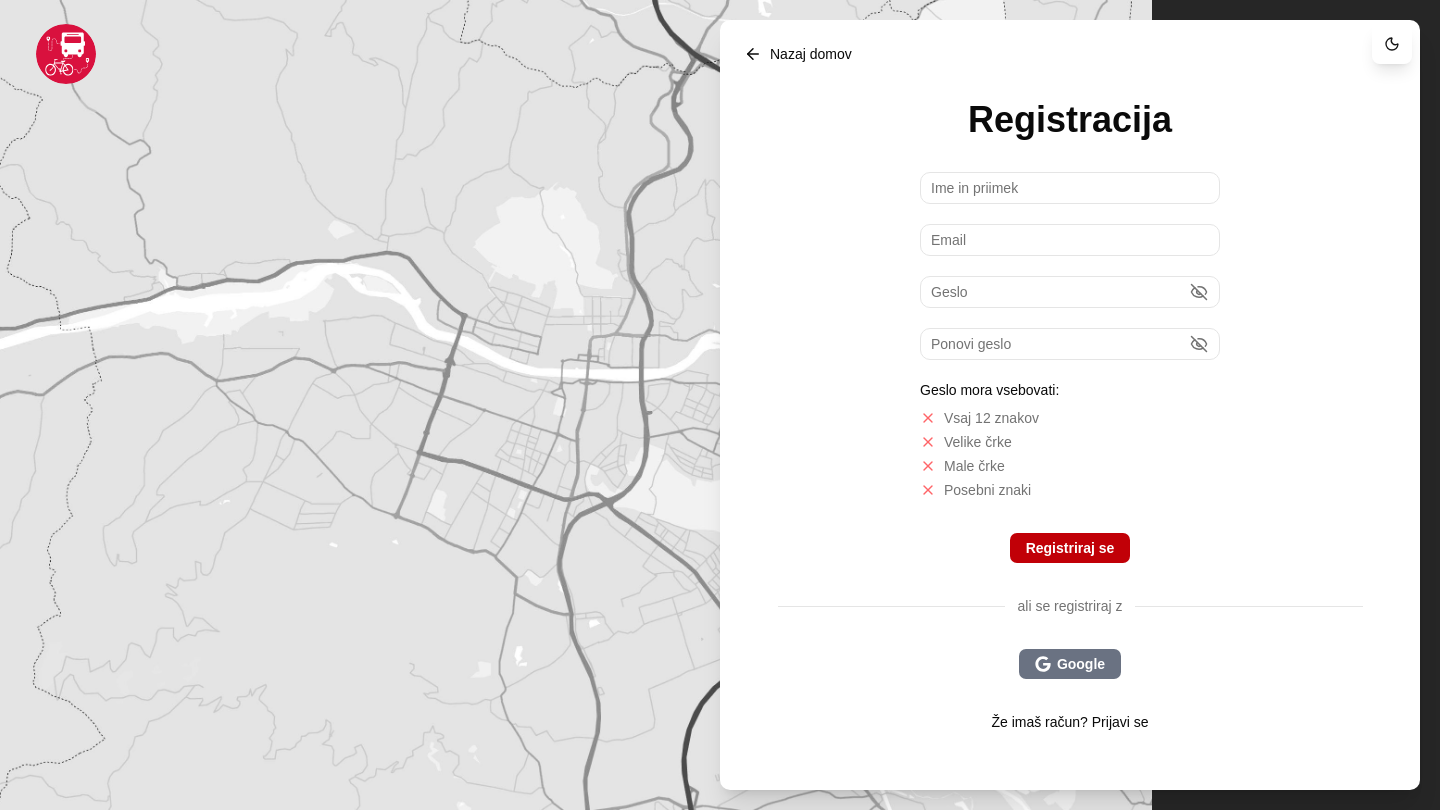
it: integracijski Login in Register › Register prikaže napako ob neujemajočih geslih
In the field with placeholder "Ime in priimek": (1070, 188) [920,172,1220,204], type "Test User"
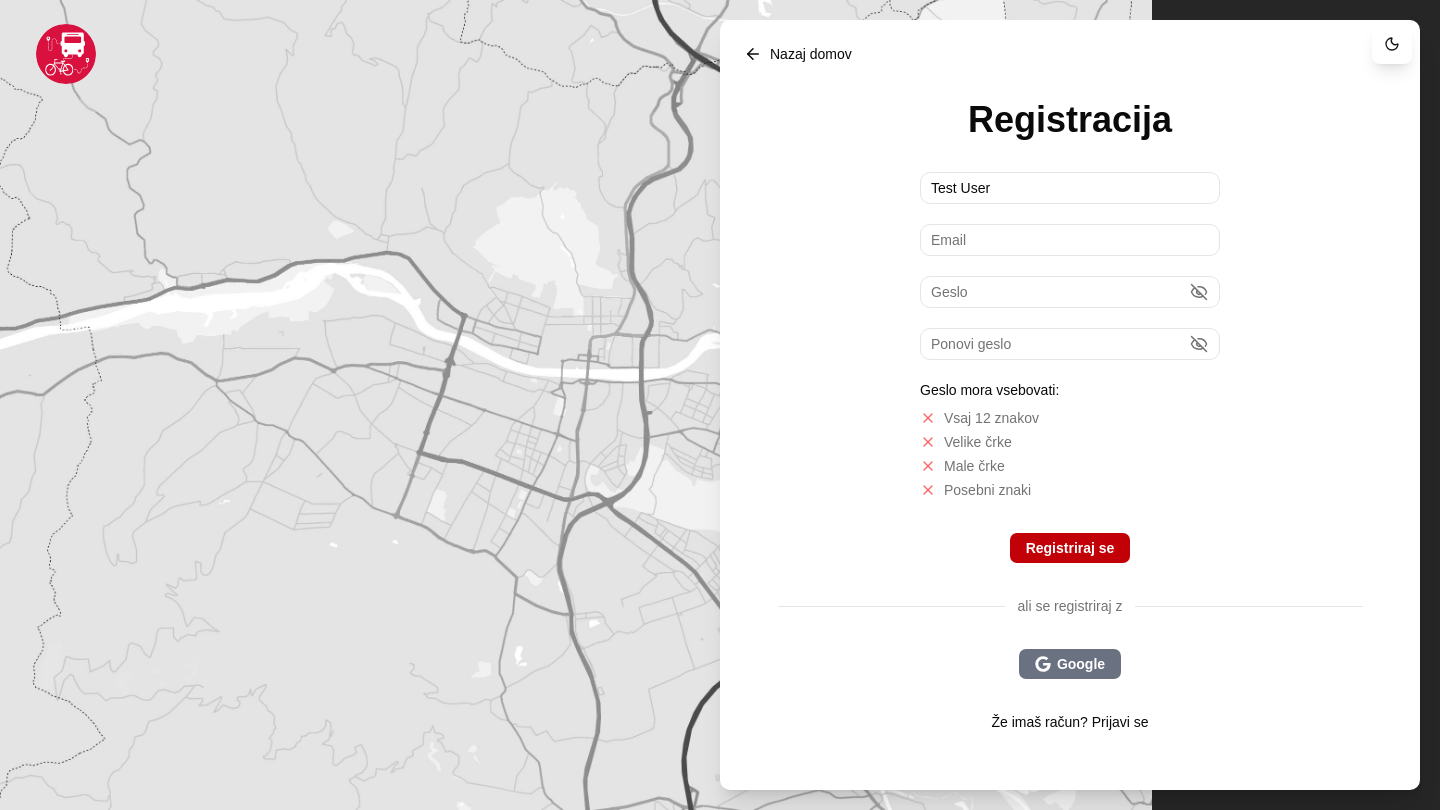
In the field with placeholder "Email": (1070, 240) [920,224,1220,256], type "test@example.com"
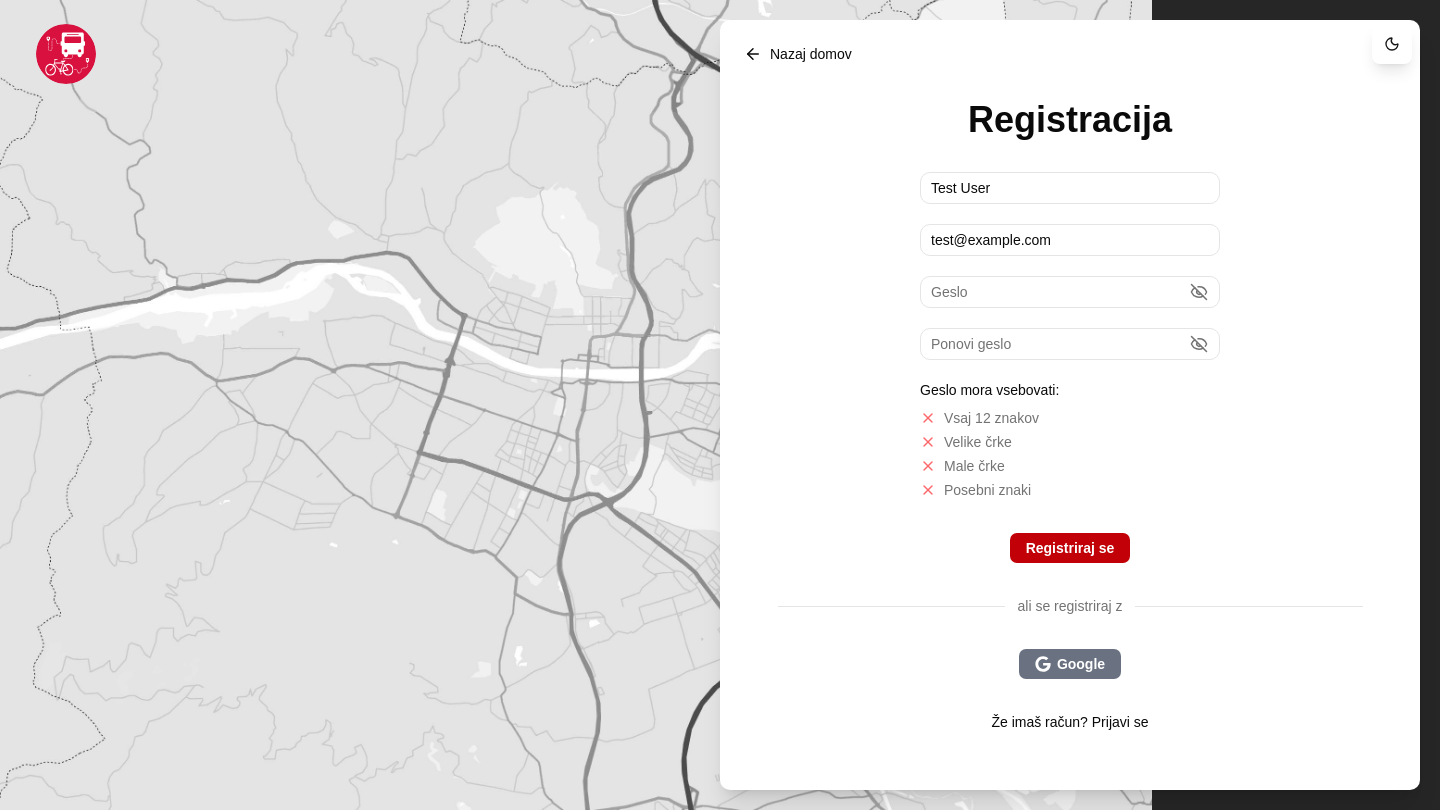
In the password field with placeholder "Geslo": (1070, 292) [920,276,1220,308], type "Password!234"
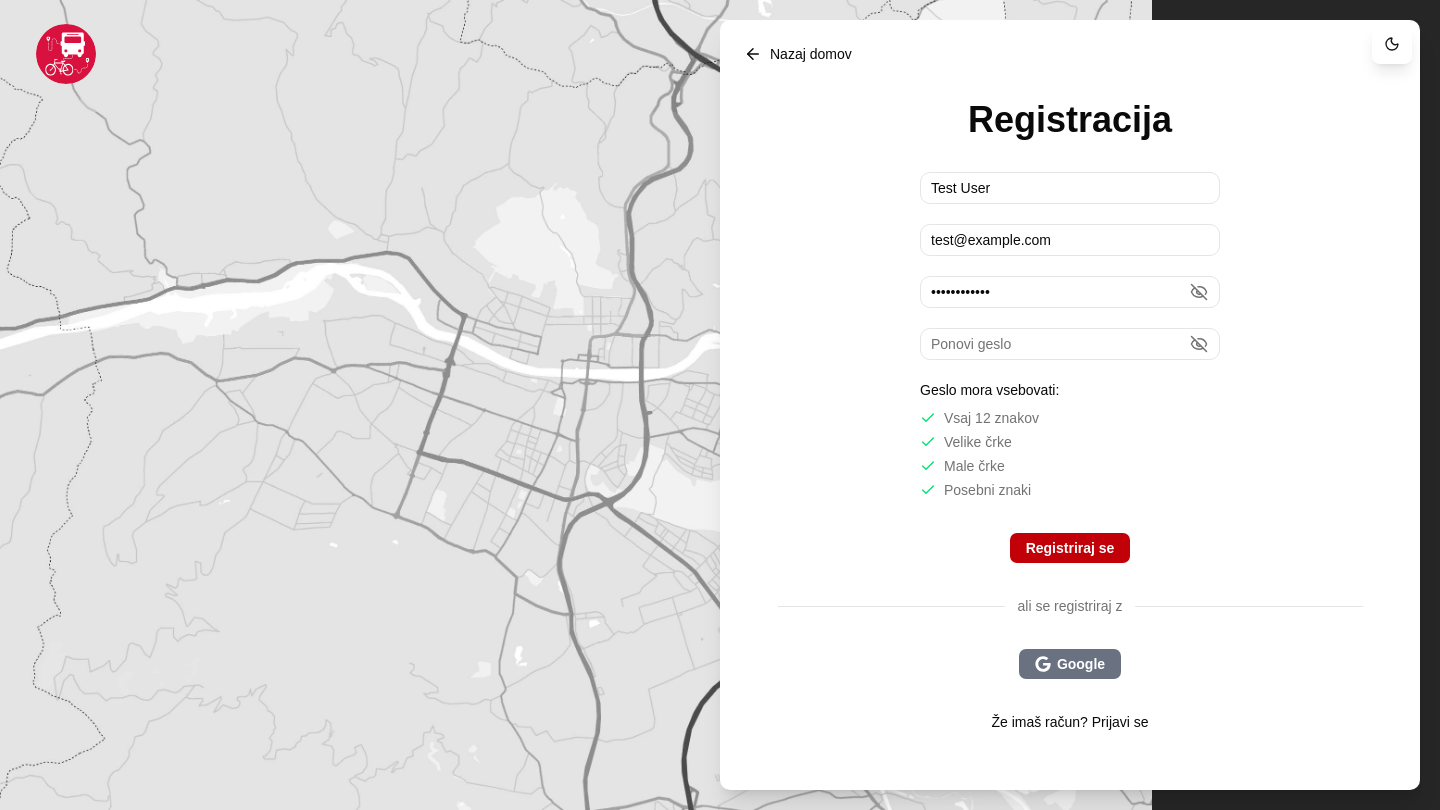
In the password field with placeholder "Ponovi geslo": (1070, 344) [920,328,1220,360], type "Password!999"
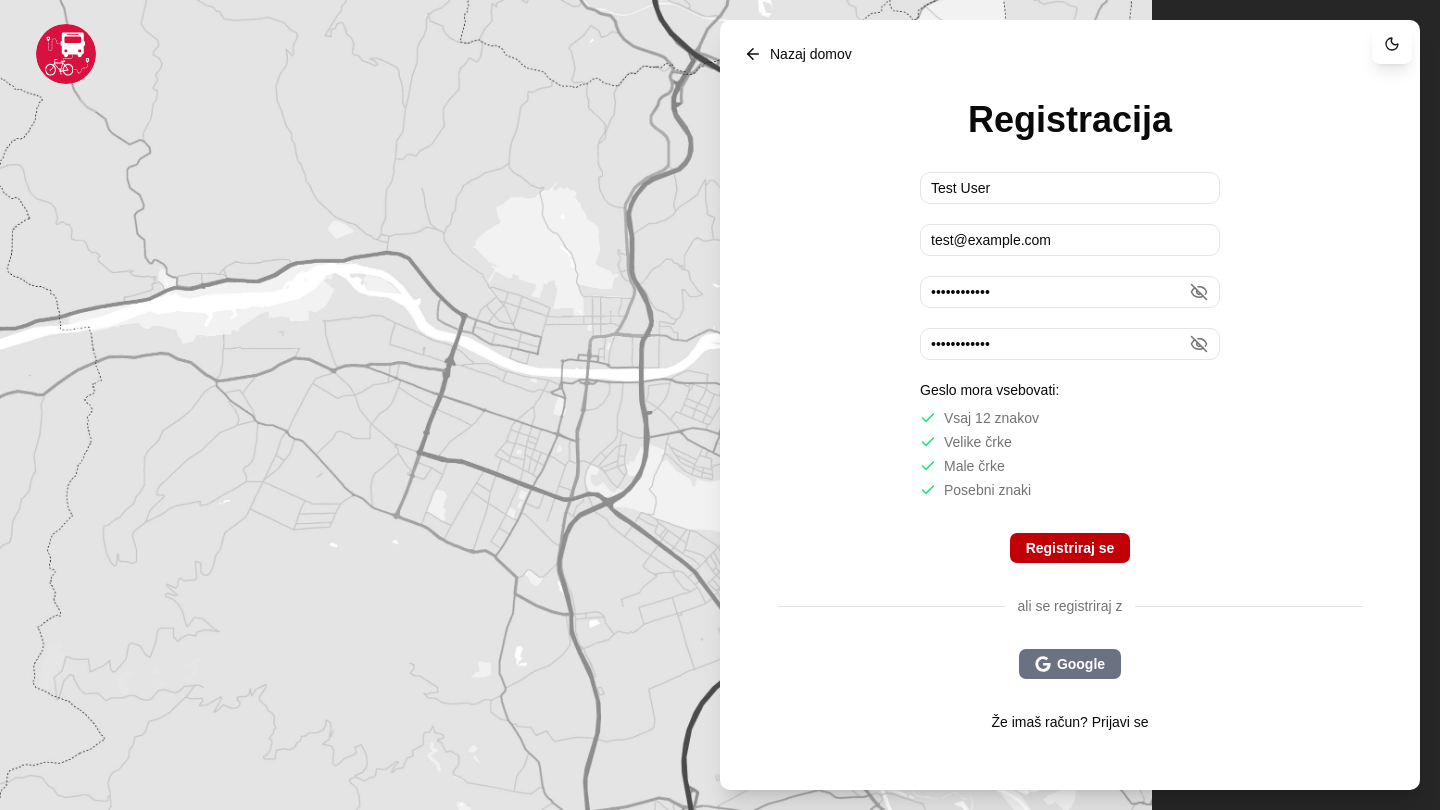
Click the button "Registriraj se": (1070, 548) [1009,532,1131,564]
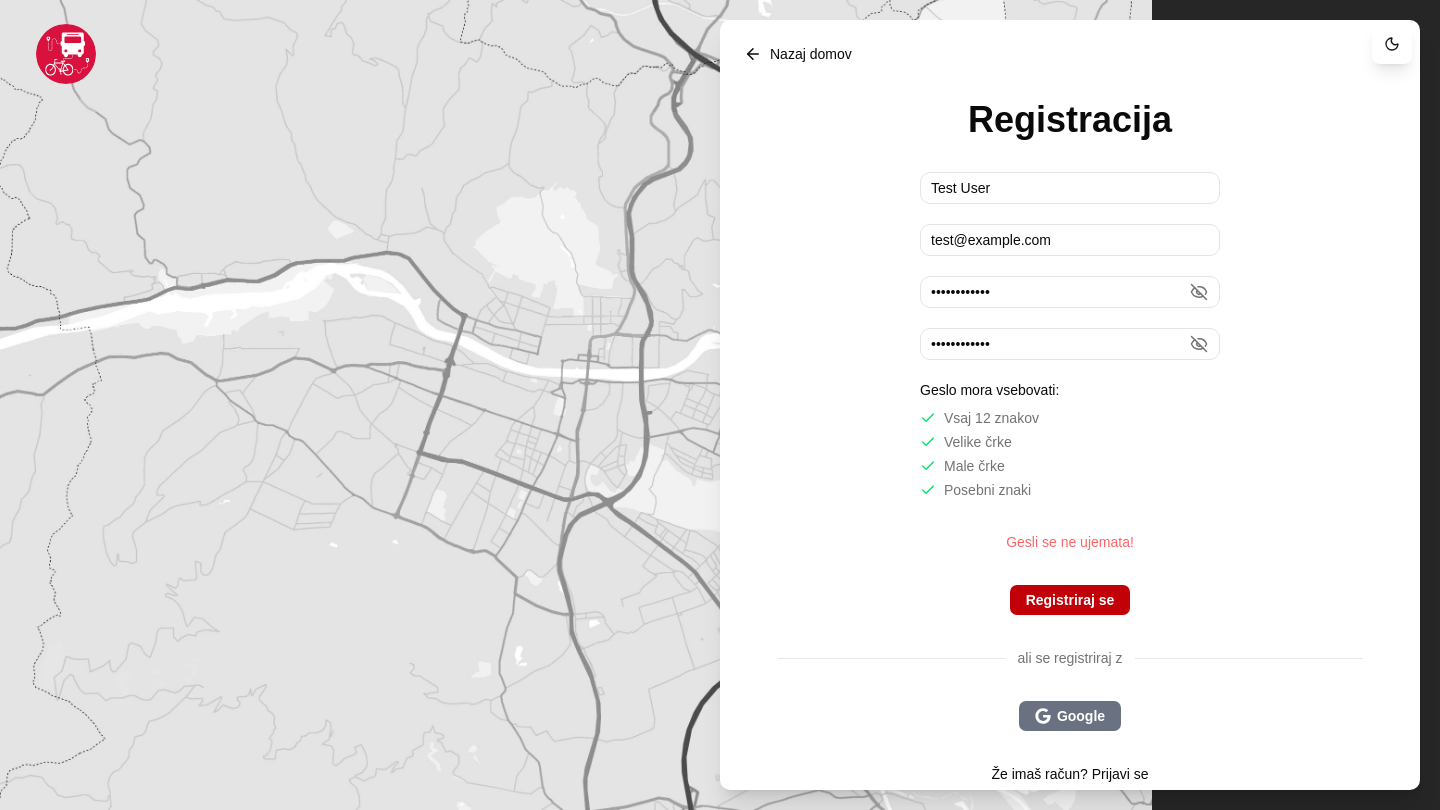
Expected: the text "Gesli se ne ujemata!" is shown, [1006,534,1134,550]
